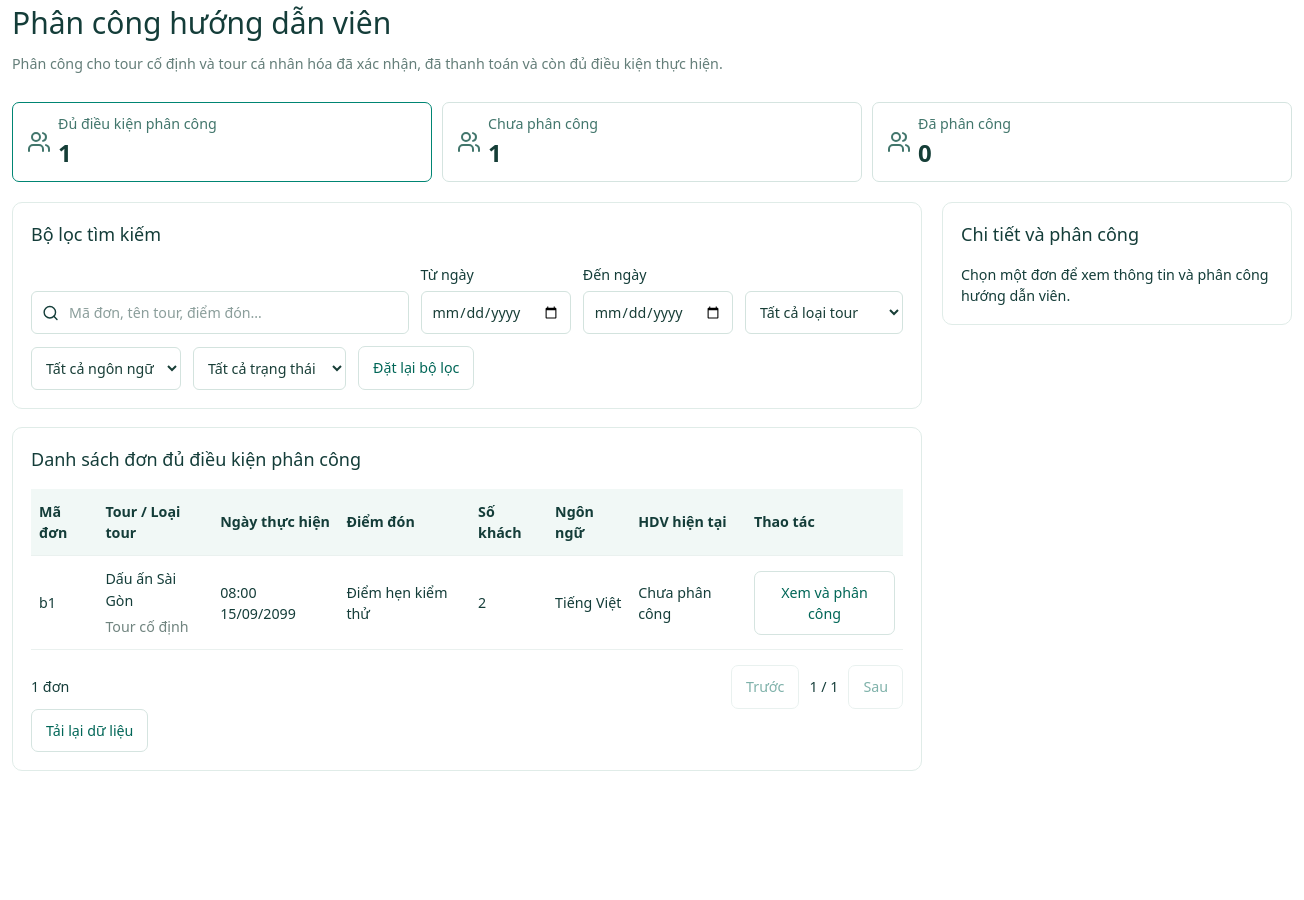
it: requires manual guide choice and cancellation does not save
Step 1. Click the button "Xem và phân công" → (824,603), box x1=754 y1=571 x2=895 y2=635
(page scrolled)
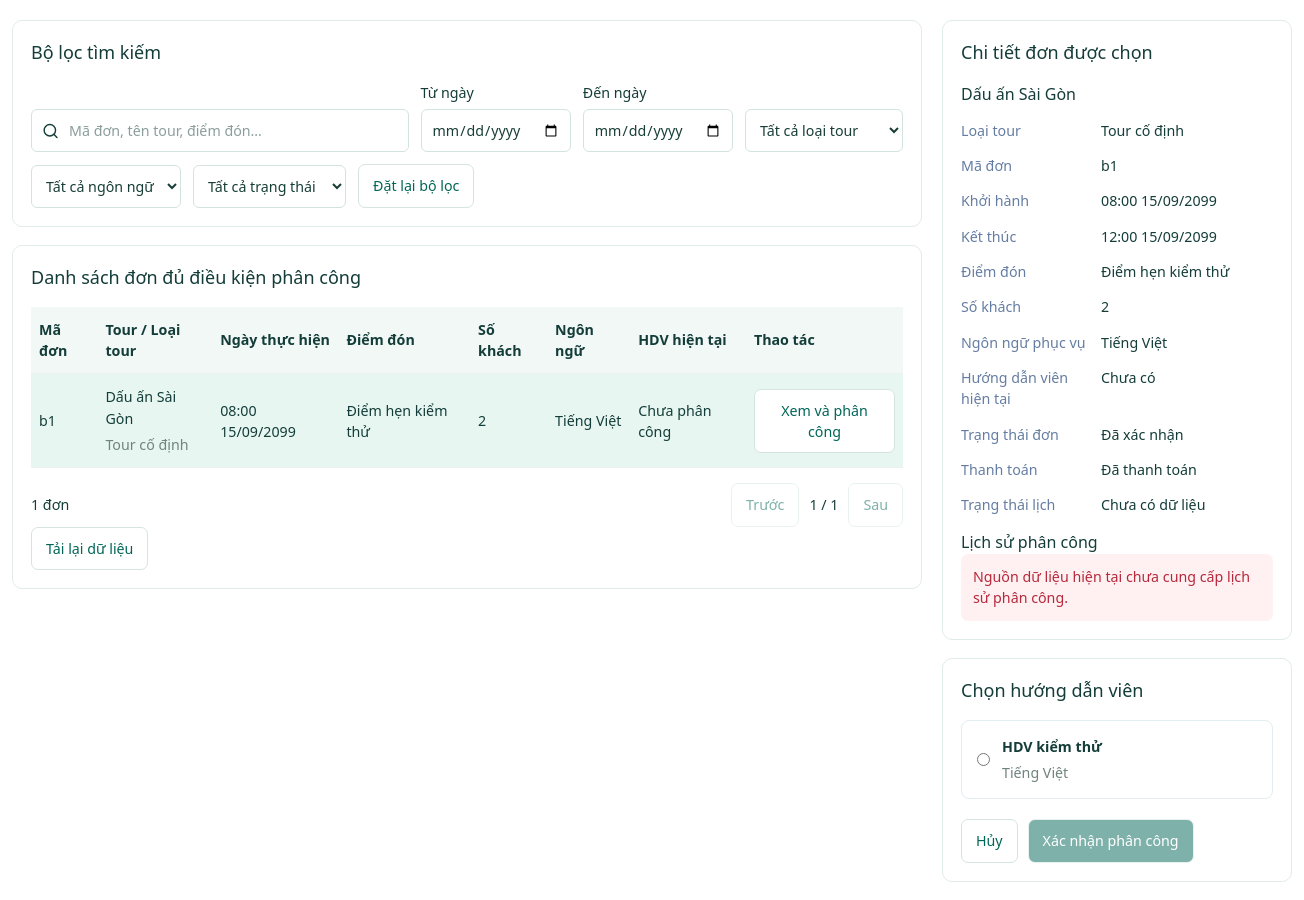
Now the button "Xác nhận phân công" is disabled, box x1=1028 y1=819 x2=1194 y2=862
Step 2. Click the radio button labelled "HDV kiểm thử Tiếng Việt" → (984,759), box x1=977 y1=753 x2=990 y2=766
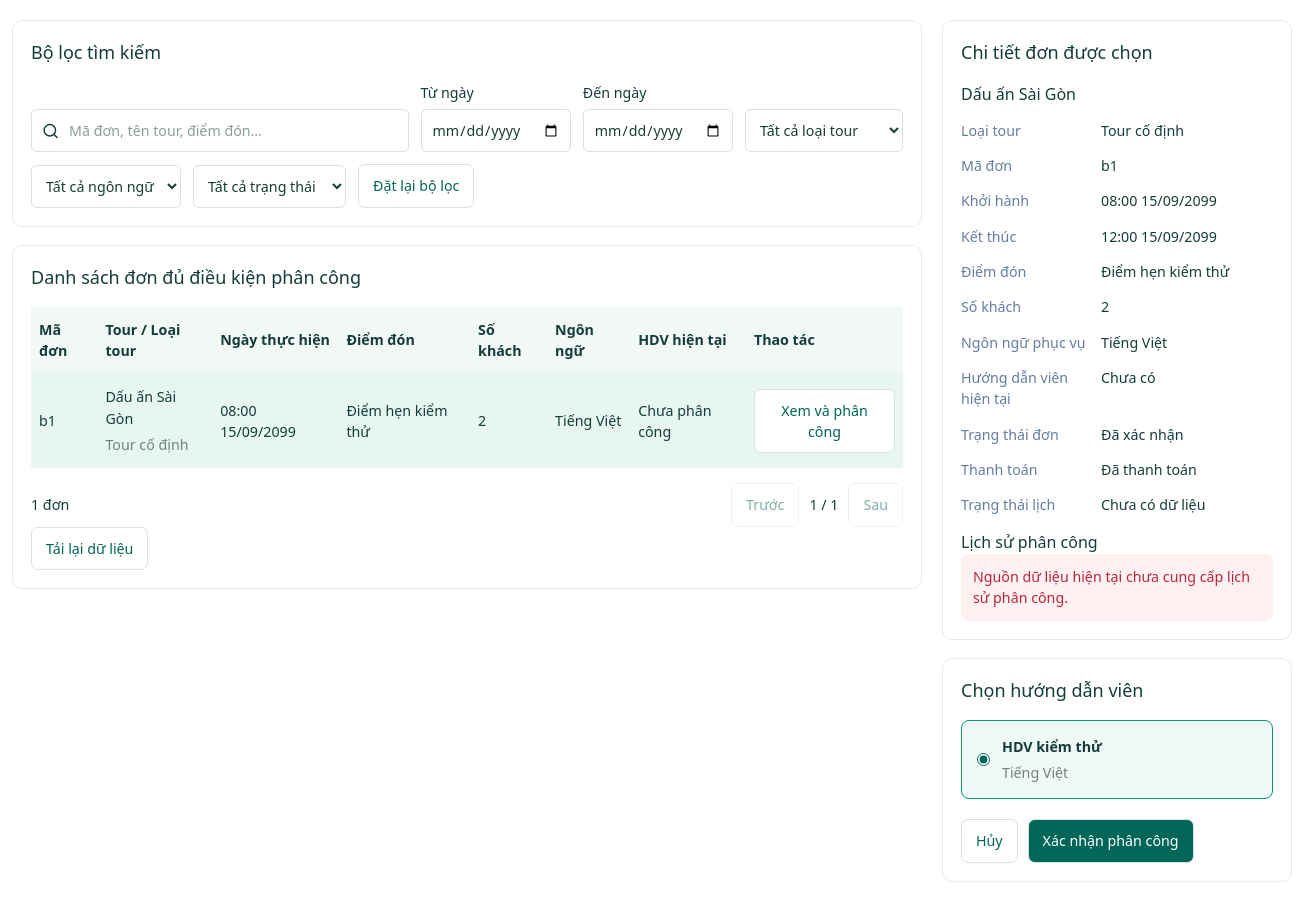
Step 3. Click the button "Hủy" → (989,841), box x1=961 y1=819 x2=1018 y2=862
(page scrolled)
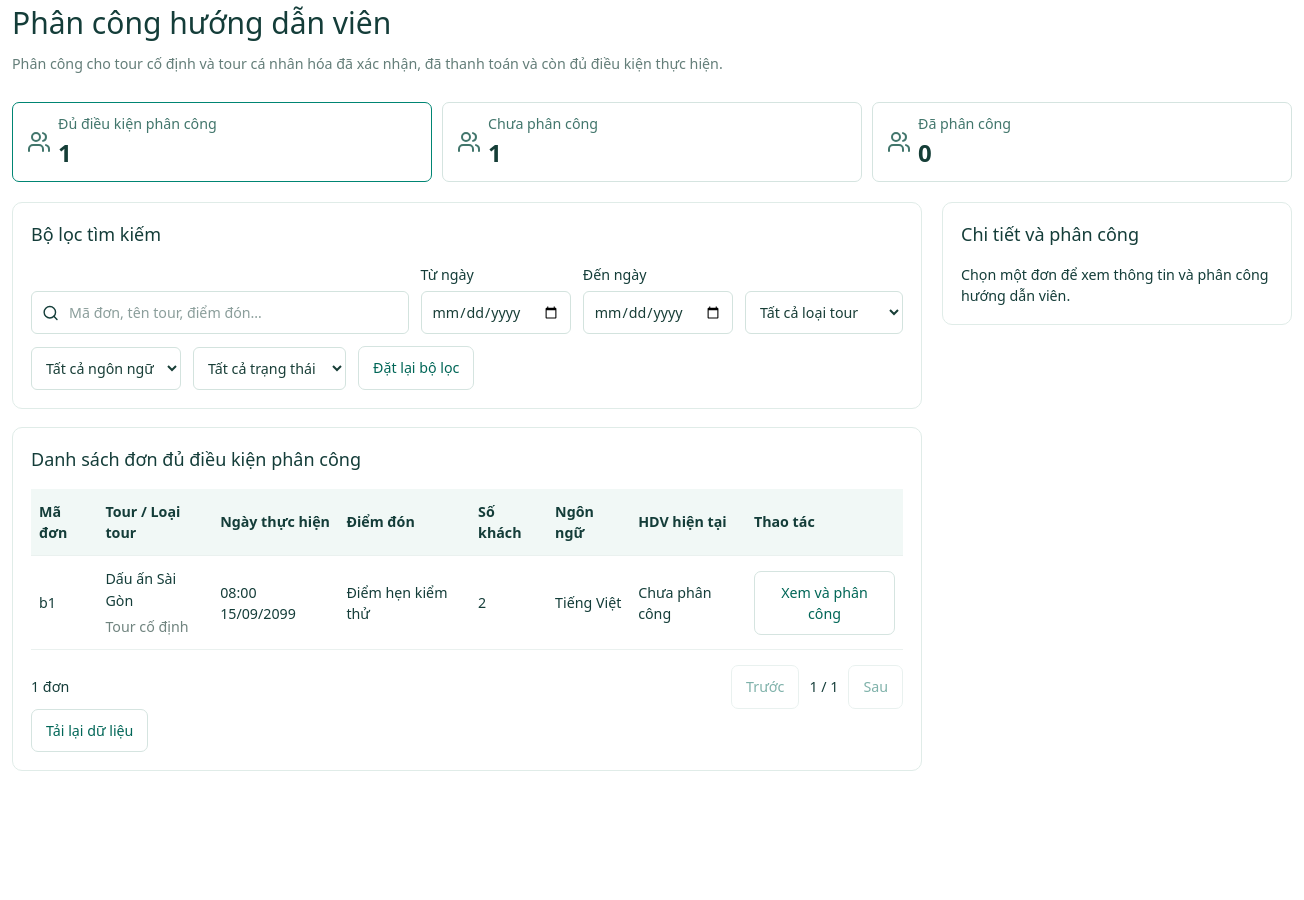
Now the radio button is gone
